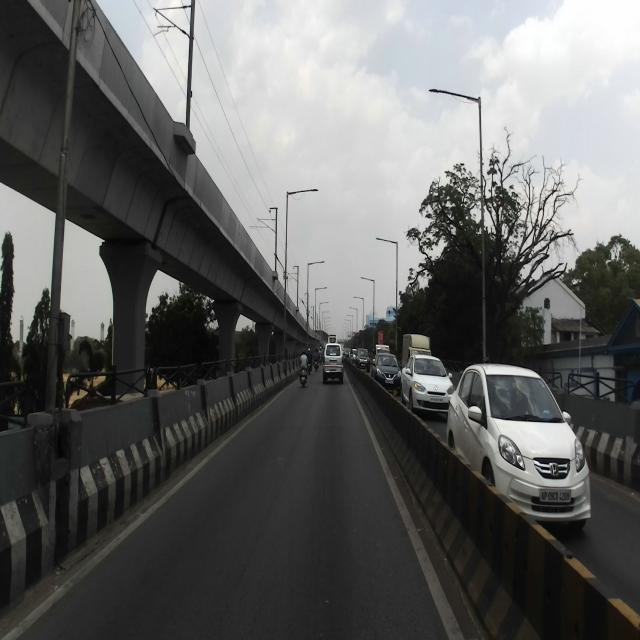Car: (402, 351, 454, 414)
Car_Chevrolet: (321, 342, 344, 388)
Car_Honda: (446, 352, 592, 530)
Car_Maruti-Suzuki: (374, 352, 402, 390)
